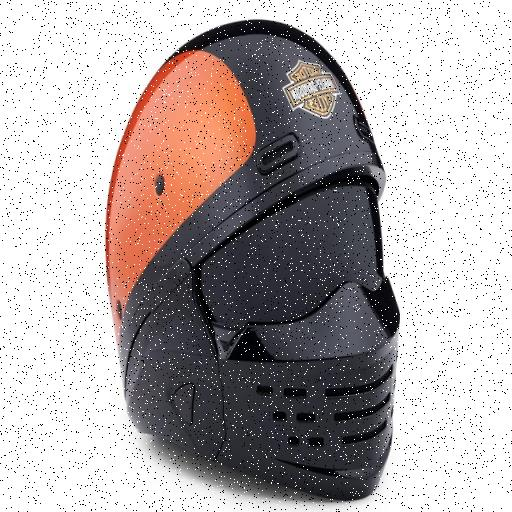Helmet: (107, 21, 399, 499)
